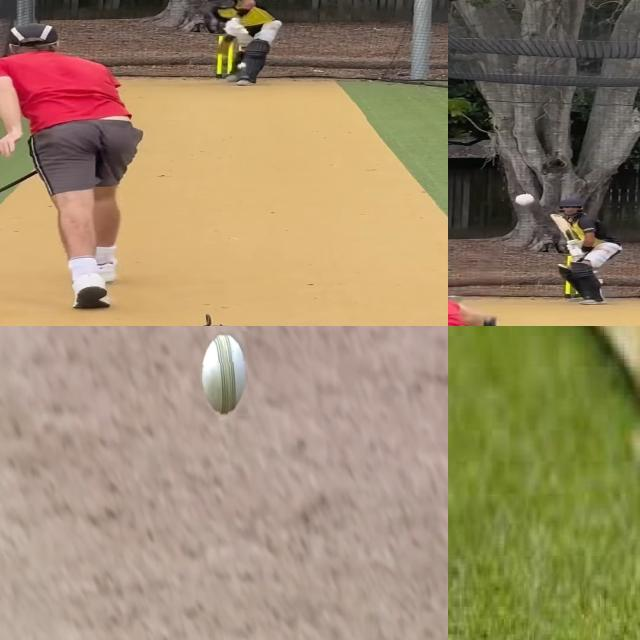Cricket ball: (200, 331, 248, 420), (510, 191, 539, 210), (235, 62, 249, 70)
